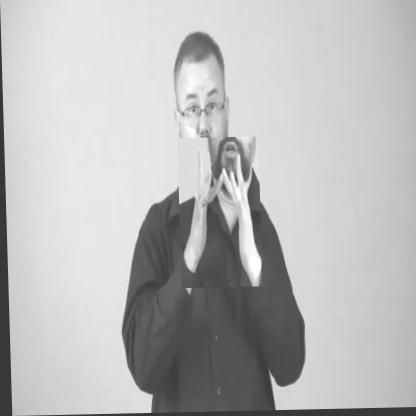Internet: (176, 138, 261, 289)
